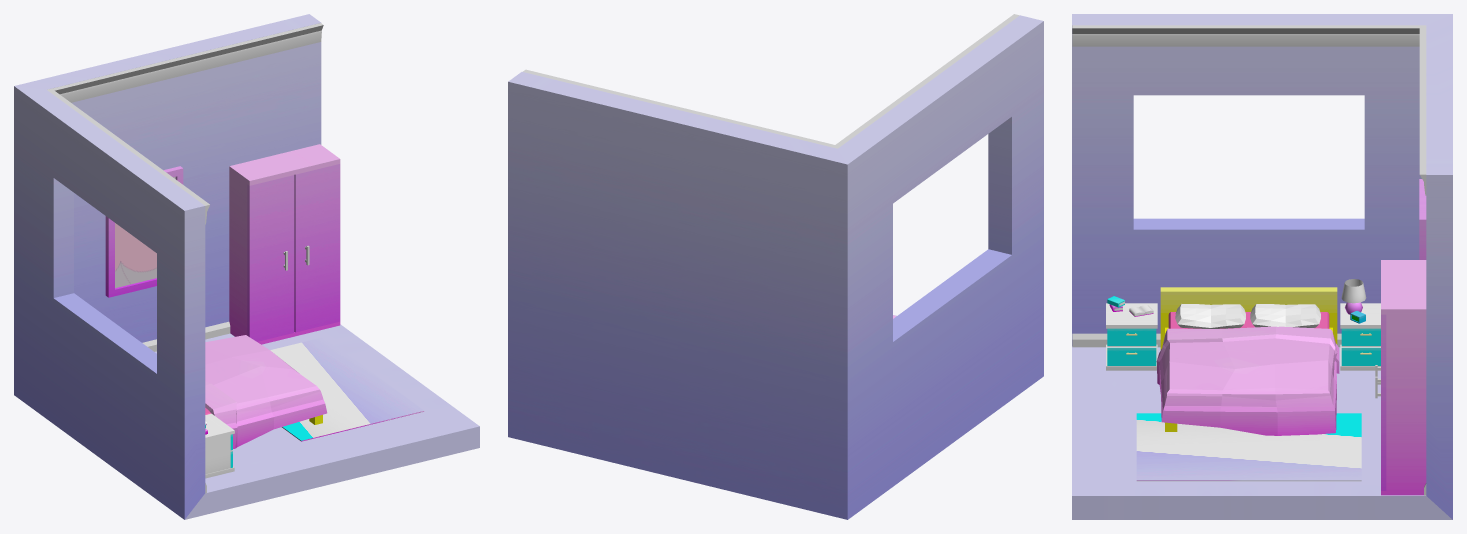
The picture shows the model from 3 angles, left to right: view 1: azimuth 30°, elevation 25°; view 2: azimuth 150°, elevation 25°; view 3: azimuth 270°, elevation 25°; orthographic projection. The views are drawn at different scales.
Parts seen in each view (by area): view 1: Room, Cupboard, Blanket, Rug, Cube.142, Cube.149, BedsideTable.001, Cube.020; view 2: Room, Cube.142, Cube.020; view 3: Room, Blanket, Rug, Cupboard, Cube.020, Bed, BedsideTable.001, BedsideTable.002, Pillow, Pillow.001, Cube.142, Cube.143 (+2 smaller).
Part boxes in pixels (x1,y1,x2,y2): Room: (14, 14, 479, 519); Cupboard: (229, 144, 340, 344); Blanket: (205, 335, 327, 448); Rug: (270, 337, 424, 441); Cube.142: (47, 23, 323, 102); Cube.149: (105, 166, 183, 297); BedsideTable.001: (205, 413, 234, 478); Cube.020: (50, 90, 209, 224); Room: (508, 15, 1043, 519); Cube.142: (523, 69, 840, 148); Cube.020: (832, 14, 1019, 147); Room: (1072, 14, 1452, 519); Blanket: (1156, 326, 1339, 435); Rug: (1136, 413, 1361, 481); Cupboard: (1381, 260, 1426, 495); Cube.020: (1072, 25, 1426, 46); Bed: (1160, 287, 1337, 431); BedsideTable.001: (1106, 303, 1157, 370); BedsideTable.002: (1340, 303, 1380, 370); Pillow: (1175, 304, 1245, 328); Pillow.001: (1250, 304, 1320, 327); Cube.142: (1419, 25, 1426, 195); Cube.143: (1072, 333, 1341, 347).
Size of the model in its own units: 1075 by 1075 by 1075.
Materials: 5 (2 with a texture image).
